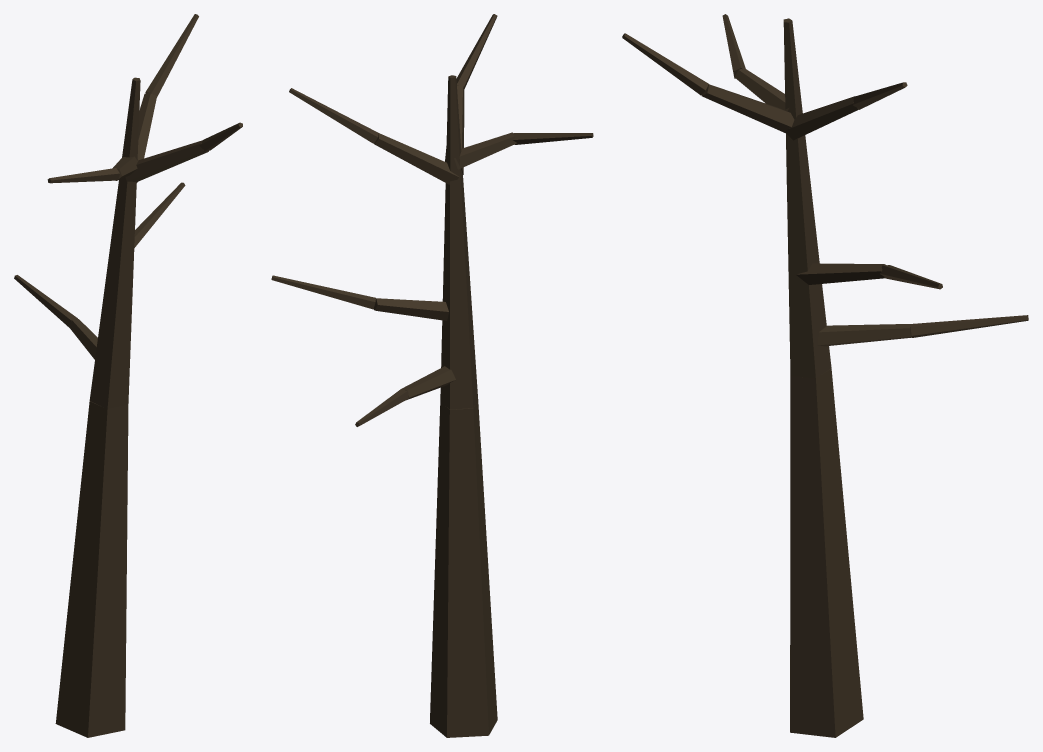
Rendered from tree_dead_2_far.glb.
3 renders of one model, left to right at view 1: azimuth 30°, elevation 25°; view 2: azimuth 150°, elevation 25°; view 3: azimuth 270°, elevation 25°, orthographic. The views are drawn at different scales.
Visible parts, largest first — view 1: wood; view 2: wood; view 3: wood.
Part boxes in pixels (<box>): wood: <box>14,14,242,737</box>; wood: <box>271,14,593,737</box>; wood: <box>622,14,1028,737</box>.
Bounding box in the file's own units: 2.49 × 6.65 × 3.4.
